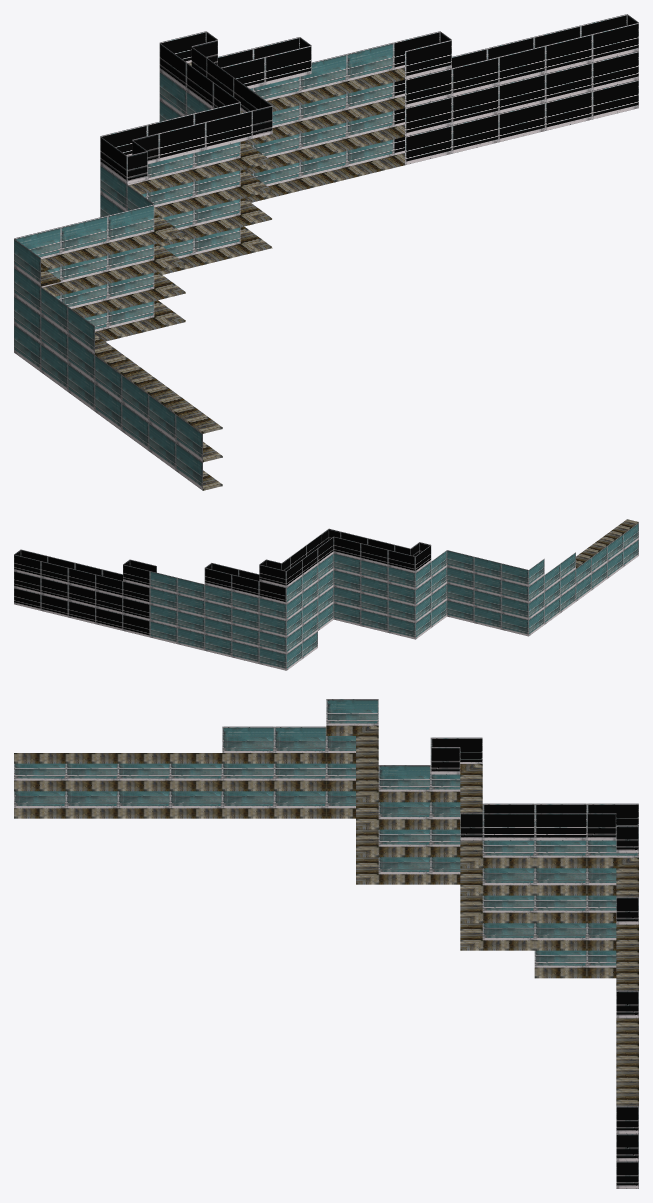
File: circusconstruct05.obj
3 renders of one model, top to bottom at view 1: azimuth 30°, elevation 25°; view 2: azimuth 150°, elevation 25°; view 3: azimuth 270°, elevation 25°, orthographic. The views are drawn at different scales.
Parts seen in each view (by area): view 1: circusconstruct05; view 2: circusconstruct05; view 3: circusconstruct05.
Boxes of the visible parts, x1,y1,x2,y2 form: circusconstruct05: [14, 14, 638, 490]; circusconstruct05: [14, 519, 638, 670]; circusconstruct05: [14, 699, 638, 1188].
Size of the model in its own units: 73.68 by 16.11 by 55.26.
3 materials, 3 textured.
